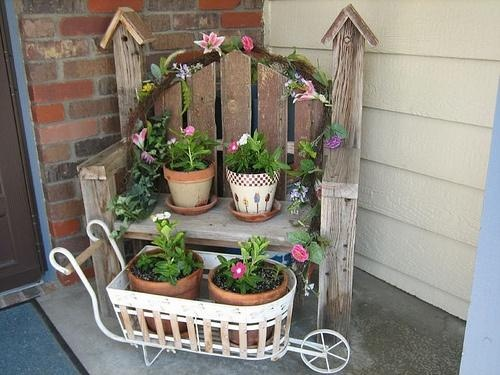pottedplant: (127, 213, 203, 336), (210, 237, 294, 347), (163, 123, 220, 217), (227, 130, 284, 221)
